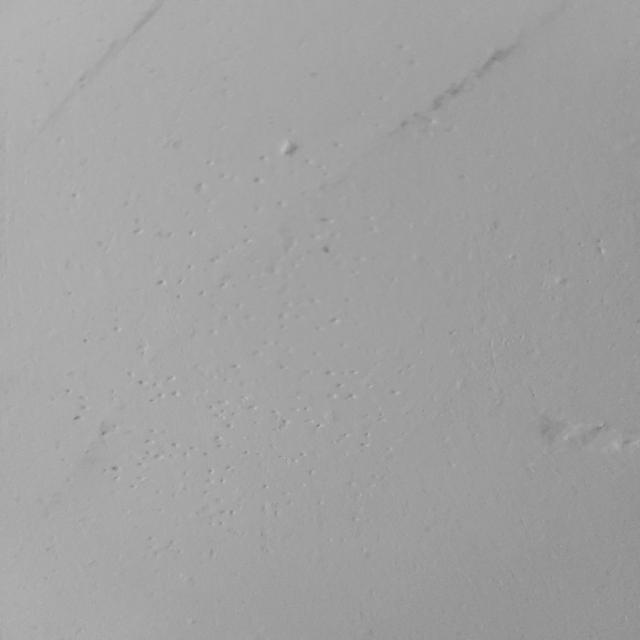rough and patchy surface: (41, 134, 454, 575), (513, 382, 640, 511), (509, 228, 611, 287)
stain marks: (379, 0, 587, 141), (34, 0, 176, 132)
